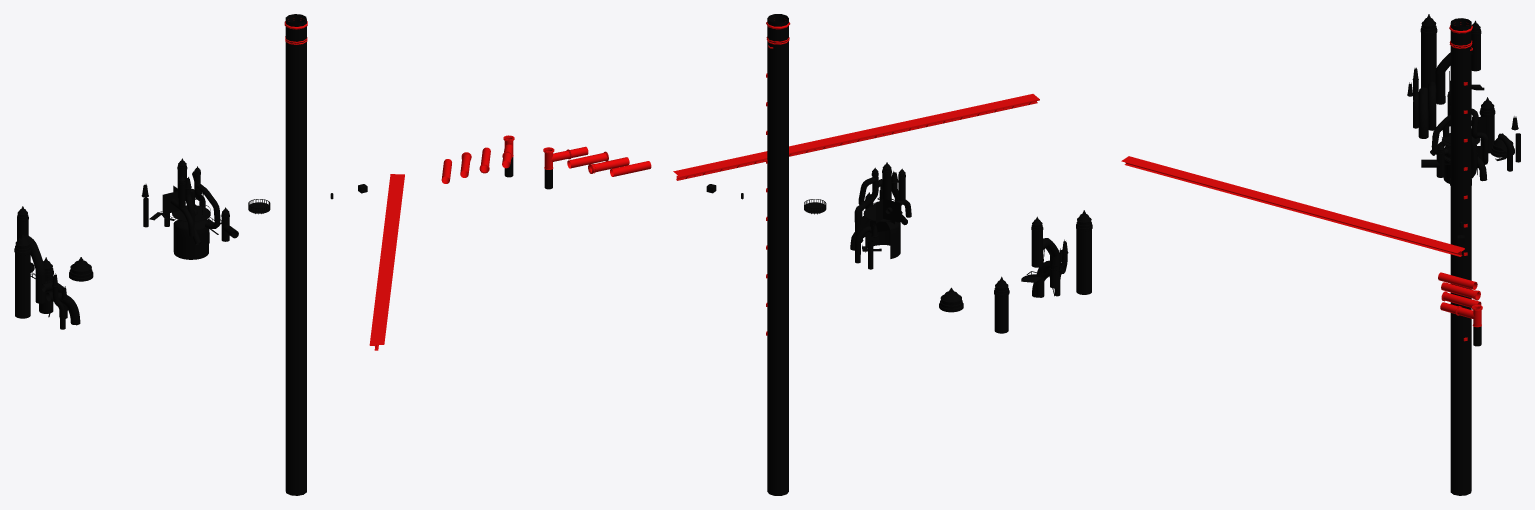
The model's file is Midground01_high.fbx.
3 renders of one model, left to right at view 1: azimuth 30°, elevation 25°; view 2: azimuth 150°, elevation 25°; view 3: azimuth 270°, elevation 25°, orthographic.
Parts seen in each view (by area): view 1: Midground01_high; view 2: Midground01_high; view 3: Midground01_high.
Boxes of the visible parts, x1=… form: Midground01_high: x1=14, y1=14, x2=514, y2=495; Midground01_high: x1=543, y1=14, x2=1092, y2=495; Midground01_high: x1=1121, y1=14, x2=1520, y2=495.
Bounding box in the file's own units: 12175 × 10524 × 8139.
